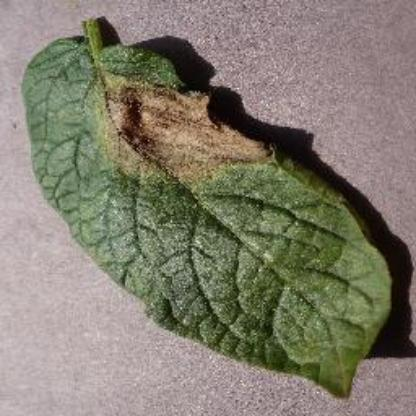Late-Blight: (0, 16, 390, 402)
